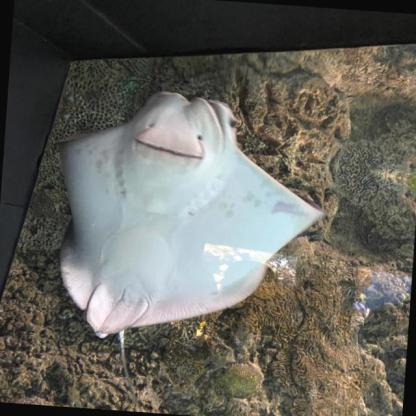stingray: (37, 83, 333, 354)
